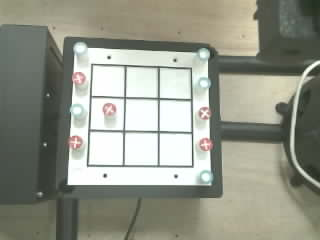blue circle: (70, 104, 85, 117), (197, 48, 211, 61), (200, 170, 213, 183), (73, 42, 87, 54), (198, 77, 211, 88)
board: (68, 47, 211, 185)
cells: (89, 132, 122, 164), (125, 133, 157, 165), (90, 98, 123, 129), (160, 68, 192, 99), (159, 134, 191, 165), (125, 99, 157, 130), (160, 100, 191, 131), (92, 66, 124, 96), (126, 67, 157, 97)
grid: (87, 64, 193, 167)
red cross: (198, 107, 212, 120), (68, 136, 82, 149), (103, 103, 116, 115), (72, 72, 85, 84), (199, 138, 212, 150)
